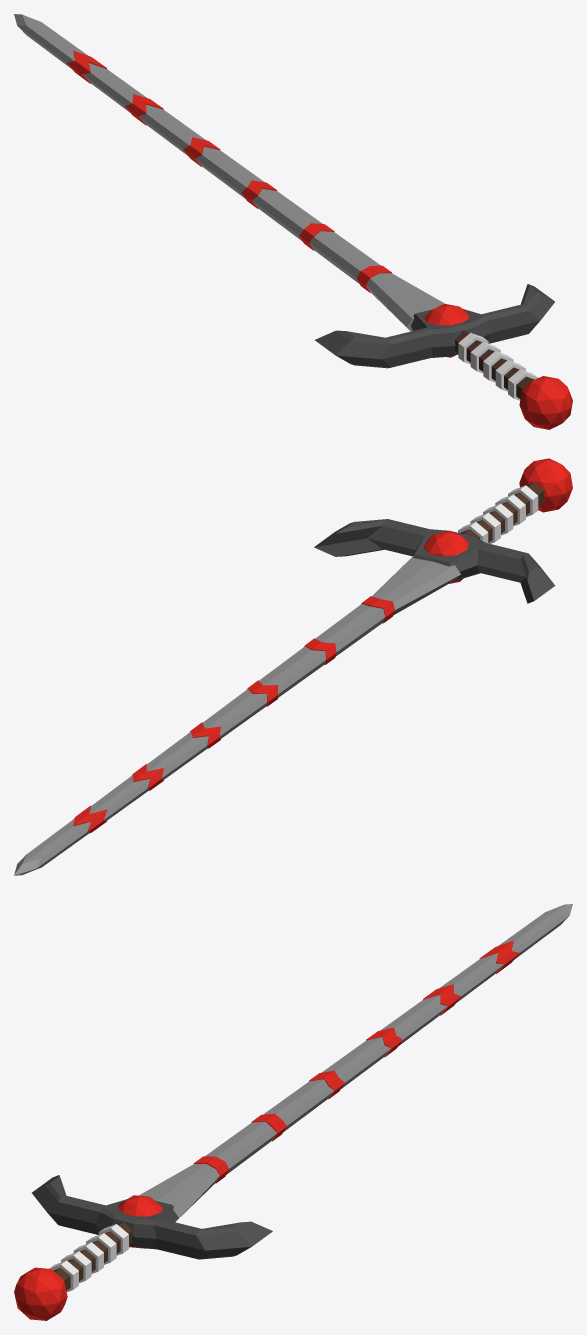
3 renders of one model, top to bottom at view 1: azimuth 30°, elevation 25°; view 2: azimuth 150°, elevation 25°; view 3: azimuth 330°, elevation 25°, orthographic.
Parts seen in each view (by area): view 1: 59; view 2: 59; view 3: 59.
Boxes of the visible parts, x1,y1,x2,y2 form: 59: (14,14,572,429); 59: (14,458,572,875); 59: (14,904,572,1320).
Size of the model in its own units: 17.59 by 3.79 by 75.52.
